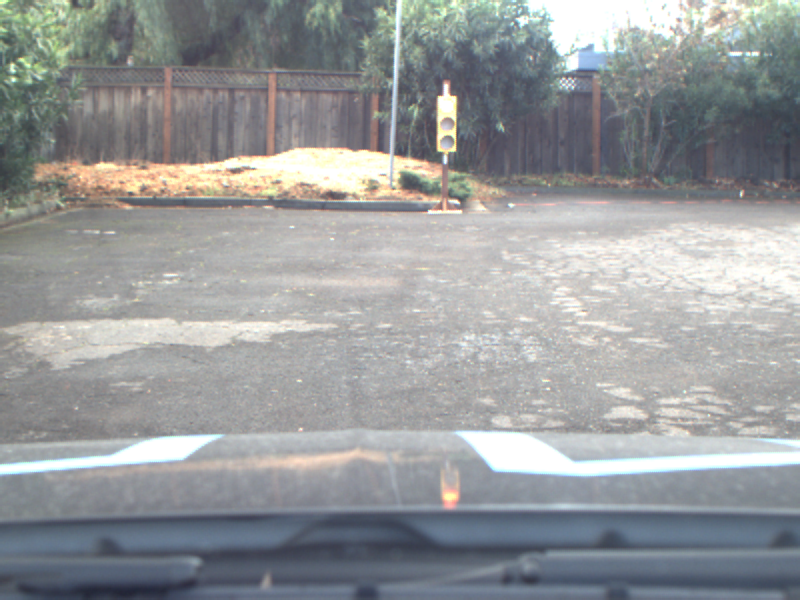Red: (436, 96, 456, 153)
